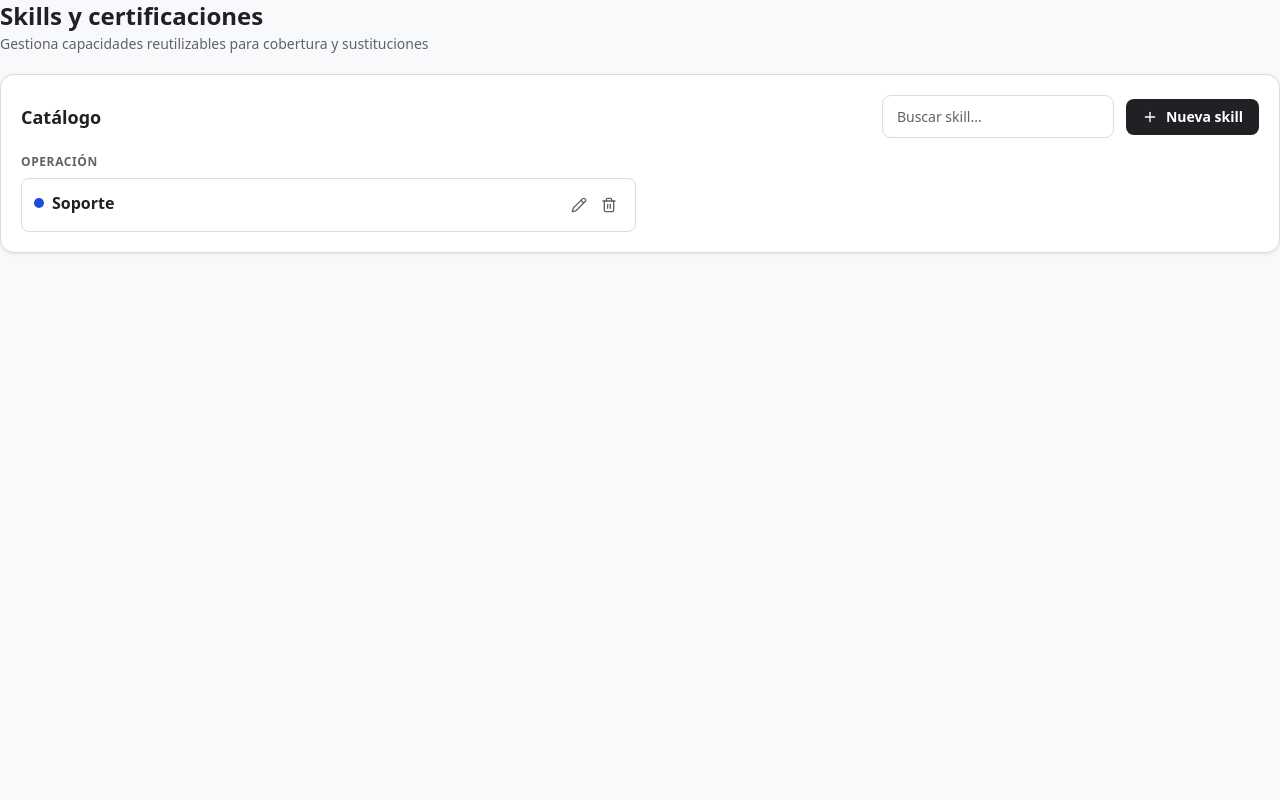
it: SkillsPage smoke › opens create modal from Nueva skill
This screenshot has width=1280, height=800.
Expected: the text "Soporte" is shown, 52,191 -> 114,215
What coordinates should you click on to do the following:
click the button "Nueva skill"
I would click on:
 (1192, 116)
Its box is 1126,98 -> 1259,134.
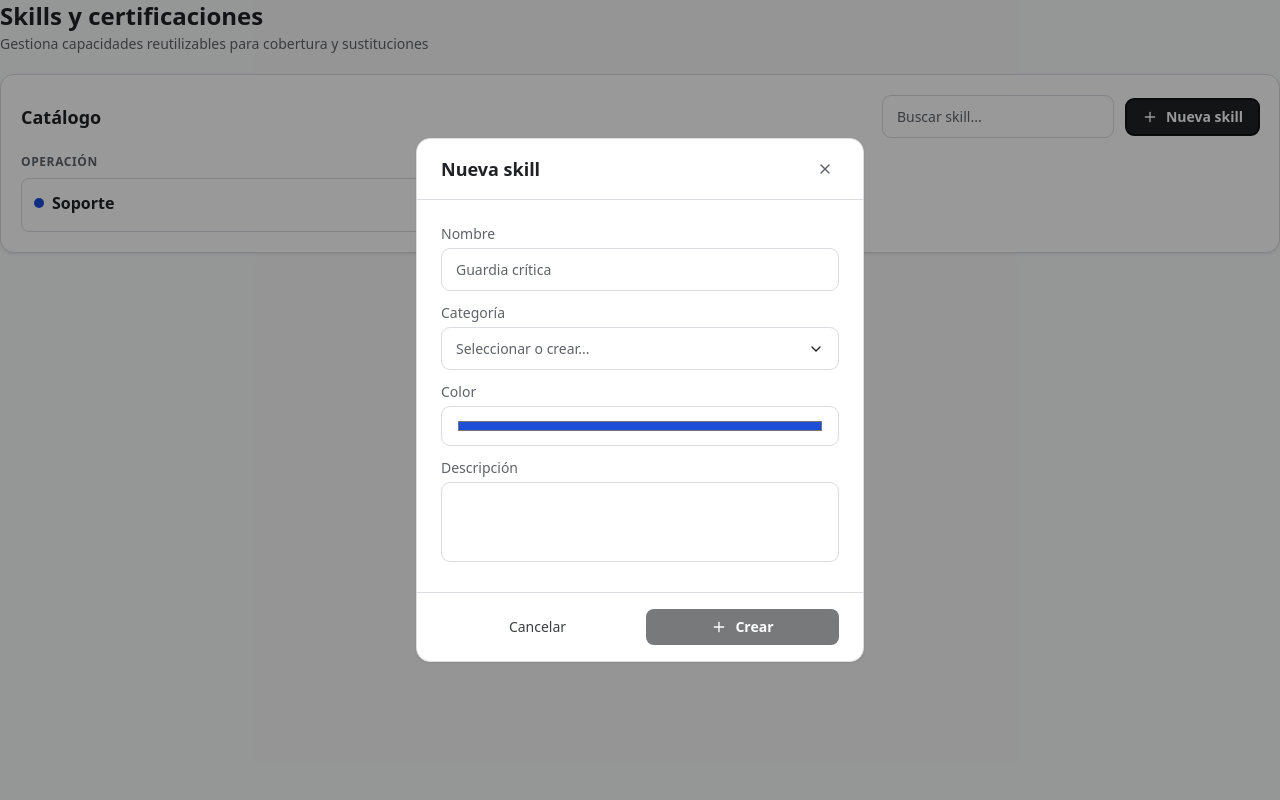
Now the dialog "Nueva skill" is shown, box 416,138 -> 864,662
